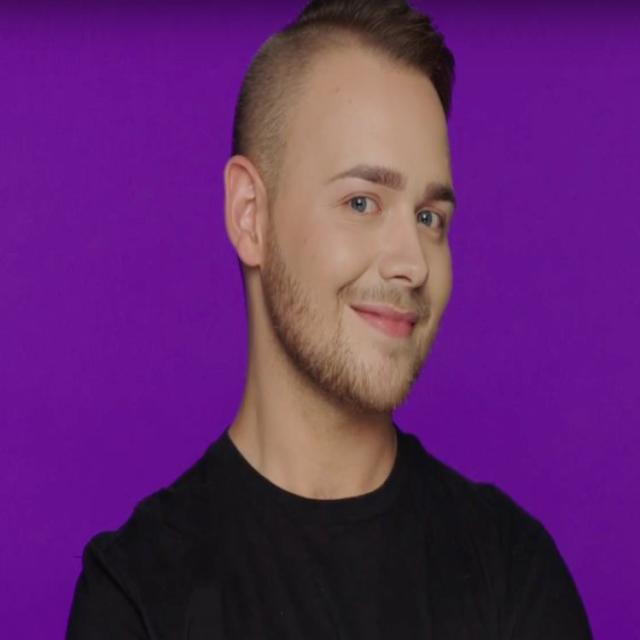mobile_phonerotation: (62, 0, 596, 639)
